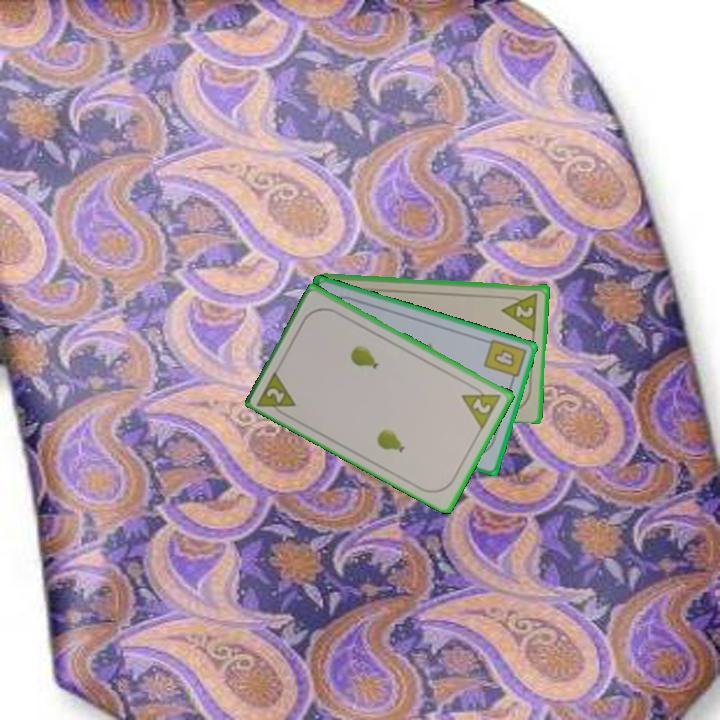2p: (254, 366, 300, 419), (458, 380, 504, 431), (512, 301, 536, 320)
4b: (480, 335, 529, 387)
